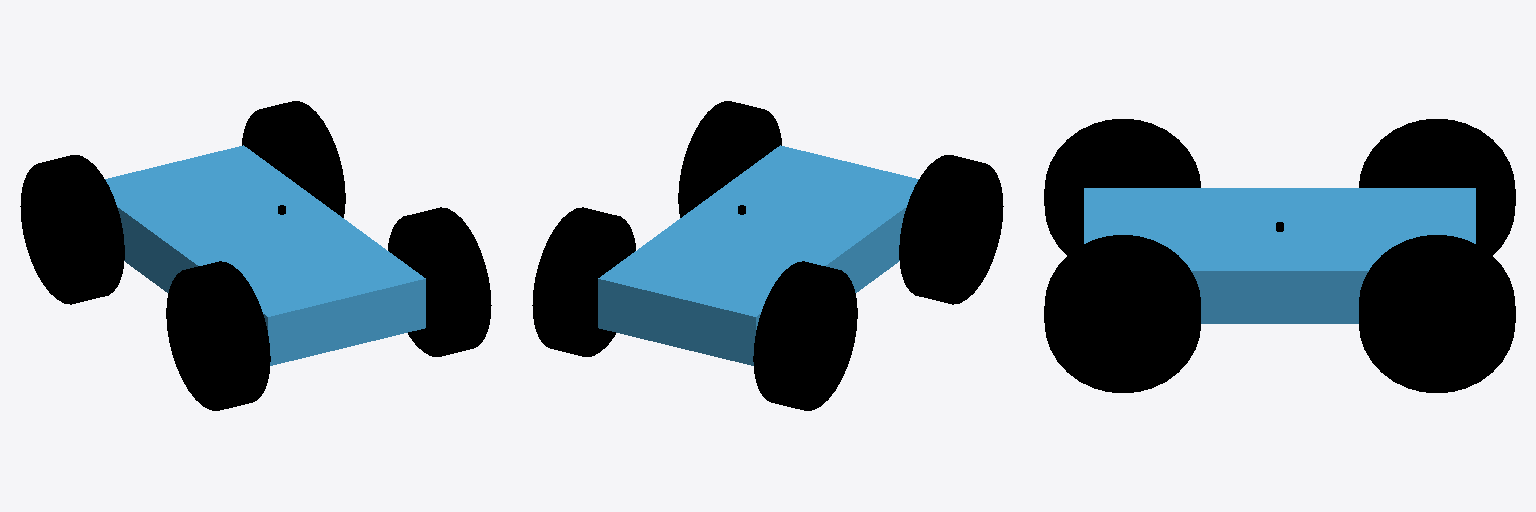
URDF robot description (jetracer):
<?xml version="1.0" ?>
<!-- =================================================================================== -->
<!-- |    This document was autogenerated by xacro from jetracer.xacro                 | -->
<!-- |    EDITING THIS FILE BY HAND IS NOT RECOMMENDED                                 | -->
<!-- =================================================================================== -->
<robot name="jetracer">
  <material name="black">
    <color rgba="0 0 0 1"/>
  </material>
  <link name="base_footprint"/>
  <joint name="base_to_base" type="fixed">
    <parent link="base_footprint"/>
    <child link="base_link"/>
    <origin rpy="0 0 0" xyz="0 0 0"/>
  </joint>
  <link name="base_link">
    <visual>
      <orgin rpy="0 0 0" xyz="0 0 0"/>
      <geometry>
        <box size="1 2 0.3"/>
      </geometry>
    </visual>
  </link>
  <!--Front left wheel-->
  <joint name="fl_holder_joint" type="revolute">
    <axis xyz="0 0 1"/>
    <limit effort="1000.0" lower="-0.4" upper="0.4" velocity="0.5"/>
    <origin rpy="0 0 0" xyz="-0.5 0.8 0"/>
    <parent link="base_link"/>
    <child link="fl_wheel_link"/>
  </joint>
  <link name="fl_wheel_link">
    <visual>
      <orgin rpy="0 0 0" xyz="-0.7 0.8 0"/>
      <geometry>
        <box size="0 0 0"/>
      </geometry>
    </visual>
  </link>
  <joint name="fl_wheel_joint" type="continuous">
    <axis xyz="0 0 1"/>
    <origin rpy="0 1.57 0" xyz="-0.2 0 0"/>
    <parent link="fl_wheel_link"/>
    <child link="fl_wheel"/>
  </joint>
  <link name="fl_wheel">
    <visual>
      <orgin rpy="0 0 0" xyz="-0.7 0.8 0"/>
      <geometry>
        <cylinder length="0.2" radius="0.4"/>
      </geometry>
      <material name="black"/>
    </visual>
  </link>
  <!--Front right wheel-->
  <joint name="fr_holder_joint" type="revolute">
    <axis xyz="0 0 1"/>
    <limit effort="1000.0" lower="-0.4" upper="0.4" velocity="0.5"/>
    <origin rpy="0 0 0" xyz="0.5 0.8 0"/>
    <parent link="base_link"/>
    <child link="fr_wheel_link"/>
  </joint>
  <link name="fr_wheel_link">
    <visual>
      <orgin rpy="0 0 0" xyz="0.7 0.8 0"/>
      <geometry>
        <box size="0 0 0"/>
      </geometry>
    </visual>
  </link>
  <joint name="fr_wheel_joint" type="continuous">
    <axis xyz="0 0 1"/>
    <origin rpy="0 1.57 0" xyz="0.2 0 0"/>
    <parent link="fr_wheel_link"/>
    <child link="fr_wheel"/>
  </joint>
  <link name="fr_wheel">
    <visual>
      <orgin rpy="0 0 0" xyz="0.7 0.8 0"/>
      <geometry>
        <cylinder length="0.2" radius="0.4"/>
      </geometry>
      <material name="black"/>
    </visual>
  </link>
  <!--Rear left wheel-->
  <joint name="rl_wheel_joint" type="continuous">
    <axis xyz="0 0 1"/>
    <origin rpy="0 1.57 0" xyz="-0.7 -0.8 0"/>
    <parent link="base_link"/>
    <child link="rl_wheel"/>
  </joint>
  <link name="rl_wheel">
    <visual>
      <orgin rpy="0 0 0" xyz="-0.7 -0.8 0"/>
      <geometry>
        <cylinder length="0.2" radius="0.4"/>
      </geometry>
      <material name="black"/>
    </visual>
  </link>
  <!--Rear right wheel-->
  <joint name="rr_wheel_joint" type="continuous">
    <axis xyz="0 0 1"/>
    <origin rpy="0 1.57 0" xyz="0.7 -0.8 0"/>
    <parent link="base_link"/>
    <child link="rr_wheel"/>
  </joint>
  <link name="base_scan">
    <visual>
      <geometry>
        <cylinder length="0.04" radius="0.02"/>
      </geometry>
      <origin rpy="0 0 0" xyz="0 0 0.0"/>
      <material name="black">
        <color rgba="0 0 0 1"/>
      </material>
    </visual>
  </link>
  <joint name="base_to_scanner" type="fixed">
    <parent link="base_link"/>
    <child link="base_scan"/>
    <origin rpy="0 0 0" xyz="0.165 0 0.24"/>
  </joint>
  <link name="rr_wheel">
    <visual>
      <orgin rpy="0 0 0" xyz="0 0 0"/>
      <geometry>
        <cylinder length="0.2" radius="0.4"/>
      </geometry>
      <material name="black"/>
    </visual>
  </link>
</robot>

--- What the picture shows (computed from the rendered views, not written in the file) ---
The picture shows the robot from 3 angles, left to right: view 1: azimuth 30°, elevation 25°; view 2: azimuth 150°, elevation 25°; view 3: azimuth 270°, elevation 25°; orthographic projection.
Robot: jetracer — 9 links, 8 joints (2 revolute, 4 continuous, 2 fixed); root link base_footprint; default pose: all joints at 0.
Visible links, largest first — view 1: base_link, rl_wheel, fl_wheel, rr_wheel, fr_wheel; view 2: base_link, fl_wheel, rl_wheel, fr_wheel, rr_wheel; view 3: base_link, fr_wheel, rr_wheel, fl_wheel, rl_wheel.
Boxes of the visible links, x1,y1,x2,y2 form: base_link: (105, 145, 425, 365); rl_wheel: (166, 261, 270, 410); fl_wheel: (20, 155, 124, 304); rr_wheel: (388, 207, 491, 356); fr_wheel: (242, 101, 345, 217); base_link: (598, 145, 918, 365); fl_wheel: (753, 261, 857, 410); rl_wheel: (899, 155, 1003, 304); fr_wheel: (532, 207, 635, 356); rr_wheel: (678, 101, 781, 217); base_link: (1084, 188, 1475, 323); fr_wheel: (1359, 235, 1515, 392); rr_wheel: (1044, 235, 1200, 392); fl_wheel: (1359, 119, 1515, 254); rl_wheel: (1044, 119, 1200, 254).
Bounding box of the posed robot: 1.6 × 2.4 × 0.8002 m (x, y, z).
Geometry: primitives only (box / cylinder / sphere), no mesh files.